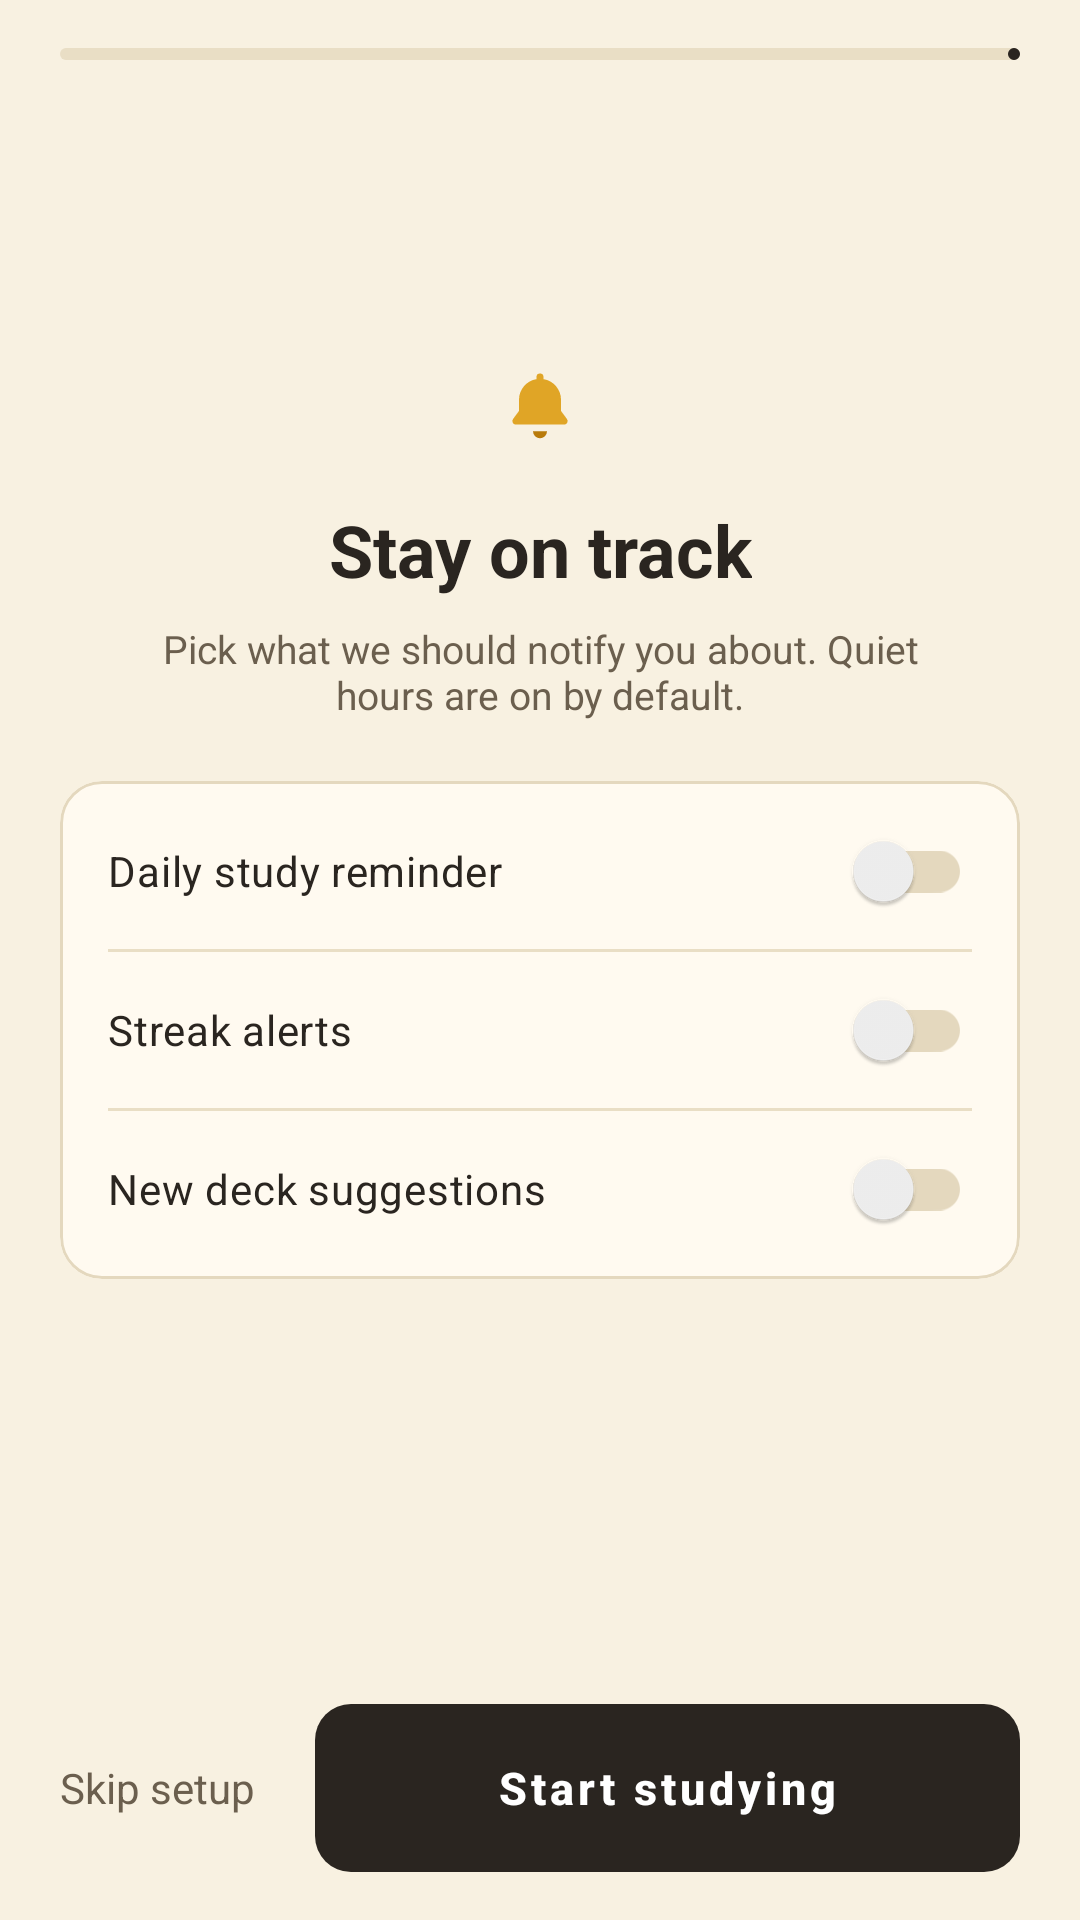

Where to tap for icons on this 1080px x 1920px app screen, as (x=x, y=y):
setup bell: (x=540, y=406)
